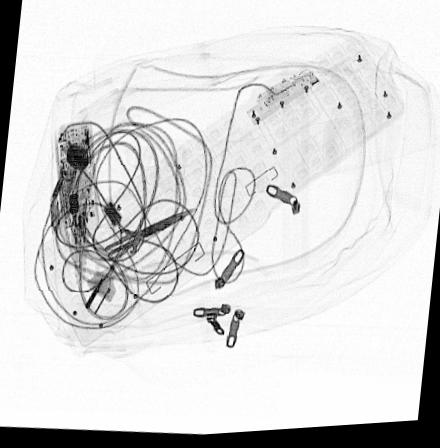Scissors: (91, 211, 198, 282)
